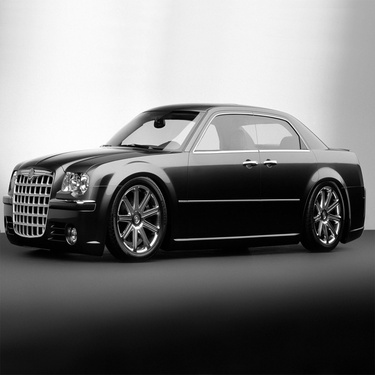car: (3, 91, 368, 261)
